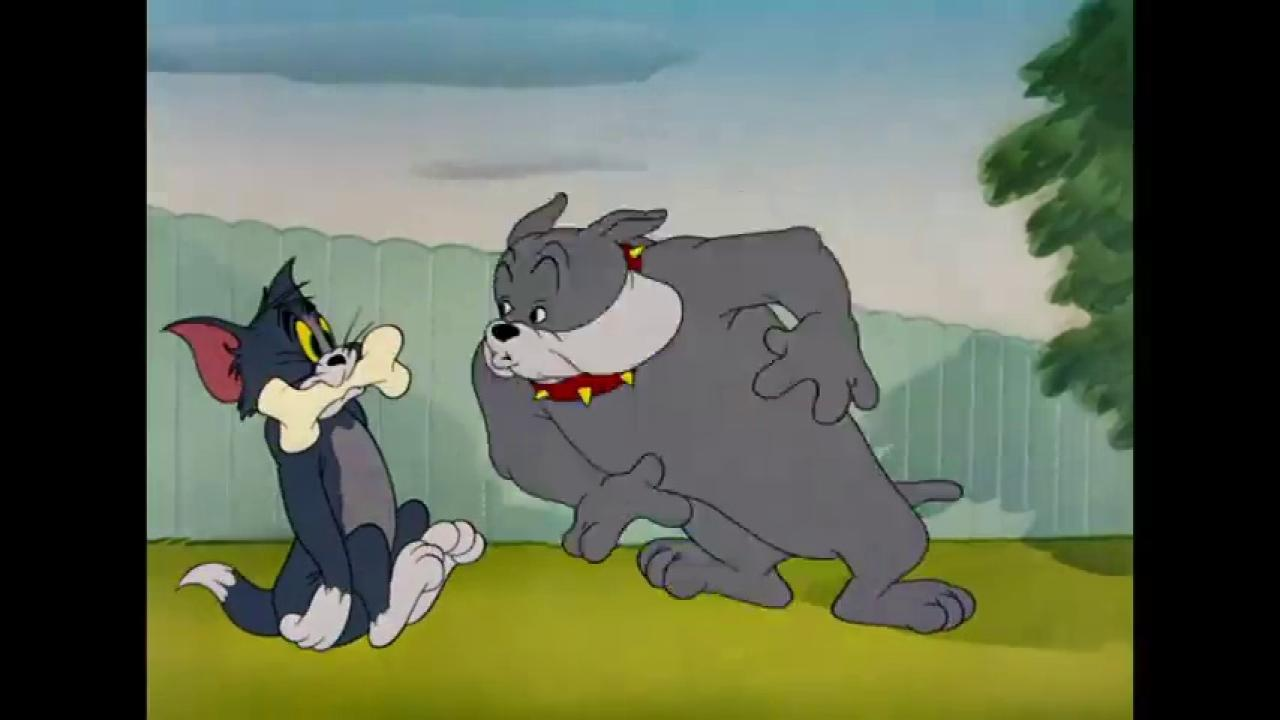Tom: (160, 256, 487, 654)
